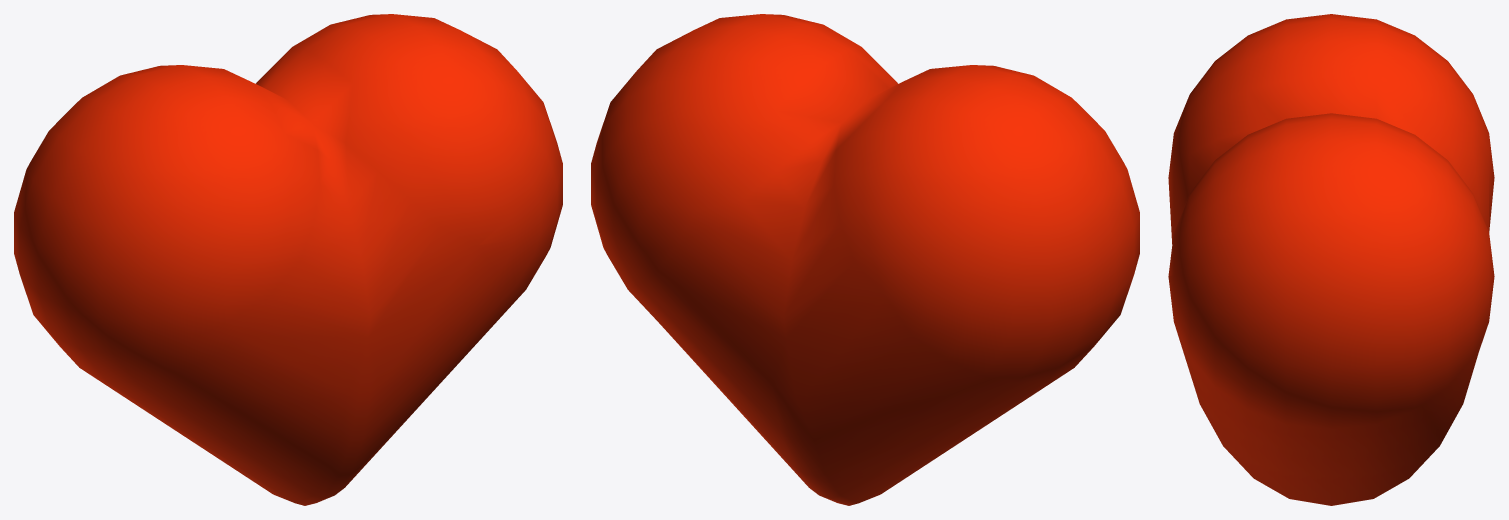
The model's file is Collectable_Heart_01.fbx.
The picture shows the model from 3 angles, left to right: view 1: azimuth 30°, elevation 25°; view 2: azimuth 150°, elevation 25°; view 3: azimuth 270°, elevation 25°; orthographic projection. The views are drawn at different scales.
Parts seen in each view (by area): view 1: Collectable_Heart_01; view 2: Collectable_Heart_01; view 3: Collectable_Heart_01.
Part boxes in pixels (left/top/right/bottom): Collectable_Heart_01: left=14, top=14, right=562, bottom=505; Collectable_Heart_01: left=591, top=14, right=1139, bottom=505; Collectable_Heart_01: left=1168, top=14, right=1494, bottom=505.
Size of the model in its own units: 98.55 by 82.66 by 57.77.
